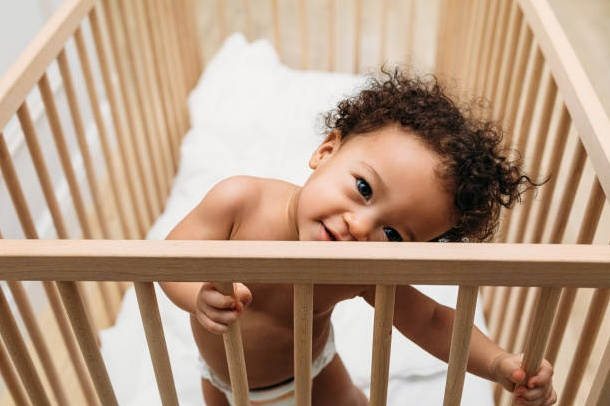baby: (167, 70, 534, 241)
crib: (0, 0, 609, 404)
